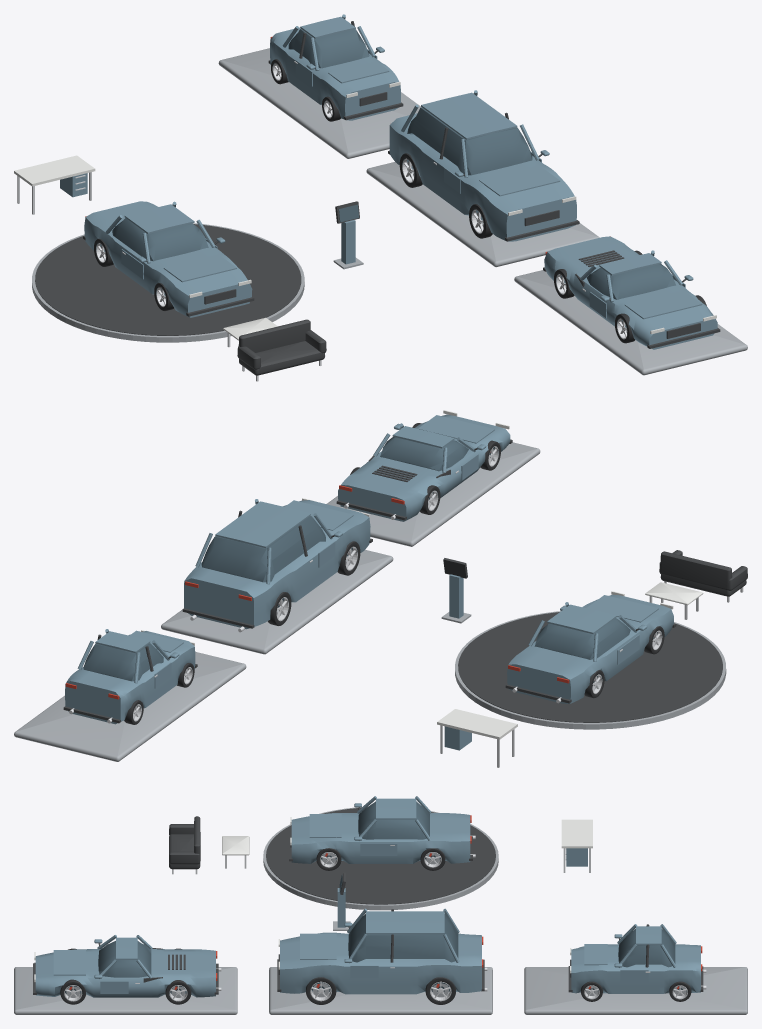
Rendered from road-car-showroom-lineup-modern-showroom-fe4656a8-starter-scene__15171.glb.
The picture shows the model from 3 angles, top to bottom: view 1: azimuth 30°, elevation 25°; view 2: azimuth 150°, elevation 25°; view 3: azimuth 270°, elevation 25°; orthographic projection. The views are drawn at different scales.
Visible parts, largest first — view 1: 000-turntable/1, 005-large-suv/0, 001-coupe/0, 007-mid-engine-supercar/0, 002-display-plinth/0, 006-display-plinth/0, 003-city-car/0, 004-display-plinth/0, 005-large-suv/1, 010-waiting-sofa/1, 000-turntable/0, 001-coupe/1 (+12 smaller); view 2: 000-turntable/1, 005-large-suv/0, 002-display-plinth/0, 001-coupe/0, 007-mid-engine-supercar/0, 003-city-car/0, 004-display-plinth/0, 006-display-plinth/0, 005-large-suv/1, 000-turntable/0, 010-waiting-sofa/1, 001-coupe/1 (+9 smaller); view 3: 005-large-suv/0, 000-turntable/1, 002-display-plinth/0, 001-coupe/0, 007-mid-engine-supercar/0, 006-display-plinth/0, 003-city-car/0, 004-display-plinth/0, 005-large-suv/1, 000-turntable/0, 001-coupe/1, 010-waiting-sofa/1 (+14 smaller).
Boxes of the visible parts, x1,y1,x2,y2 form: 000-turntable/1: (35,224,301,335); 005-large-suv/0: (389,90,576,241); 001-coupe/0: (84,201,252,317); 007-mid-engine-supercar/0: (544,236,717,349); 002-display-plinth/0: (218,48,421,158); 006-display-plinth/0: (514,270,747,375); 003-city-car/0: (270,14,400,120); 004-display-plinth/0: (366,162,599,267); 005-large-suv/1: (407,107,532,175); 010-waiting-sofa/1: (237,319,326,375); 000-turntable/0: (32,223,304,342); 001-coupe/1: (112,218,208,261); 000-turntable/1: (458,612,722,722); 005-large-suv/0: (184,499,370,629); 002-display-plinth/0: (14,652,246,761); 001-coupe/0: (507,594,673,703); 007-mid-engine-supercar/0: (338,414,510,521); 003-city-car/0: (65,629,195,724); 004-display-plinth/0: (161,549,393,654); 006-display-plinth/0: (326,442,540,546); 005-large-suv/1: (201,516,325,582); 000-turntable/0: (455,611,726,729); 010-waiting-sofa/1: (659,550,747,596); 001-coupe/1: (534,618,630,659); 005-large-suv/0: (280,908,481,994); 000-turntable/1: (266,807,495,904); 002-display-plinth/0: (524,967,747,1014); 001-coupe/0: (291,796,470,863); 007-mid-engine-supercar/0: (35,935,215,997); 006-display-plinth/0: (14,967,237,1014); 003-city-car/0: (571,924,700,993); 004-display-plinth/0: (269,967,492,1014); 005-large-suv/1: (348,914,458,962); 000-turntable/0: (263,807,498,910); 001-coupe/1: (358,801,429,839); 010-waiting-sofa/1: (169,816,200,869).
Size of the model in its own units: 12.35 by 2.02 by 18.7.
